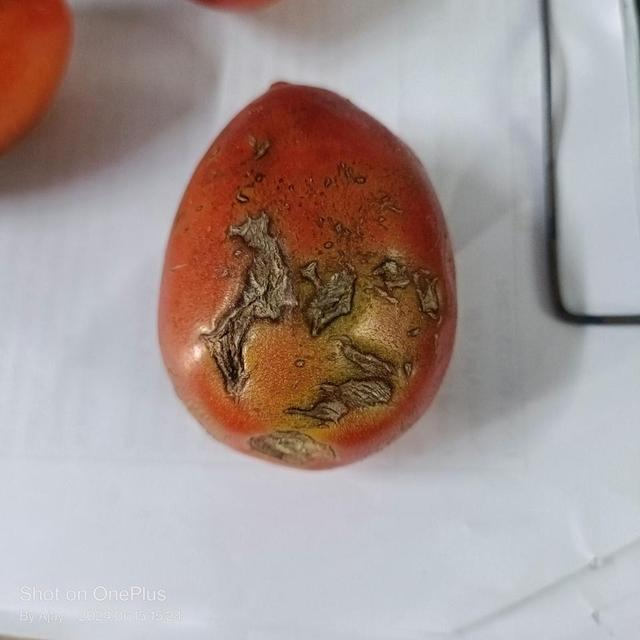Cracking Fruit: (133, 213, 273, 256)
